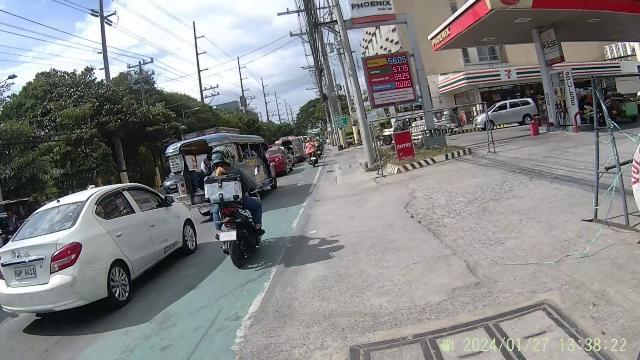utility_post: (186, 17, 216, 113), (86, 1, 120, 84)
